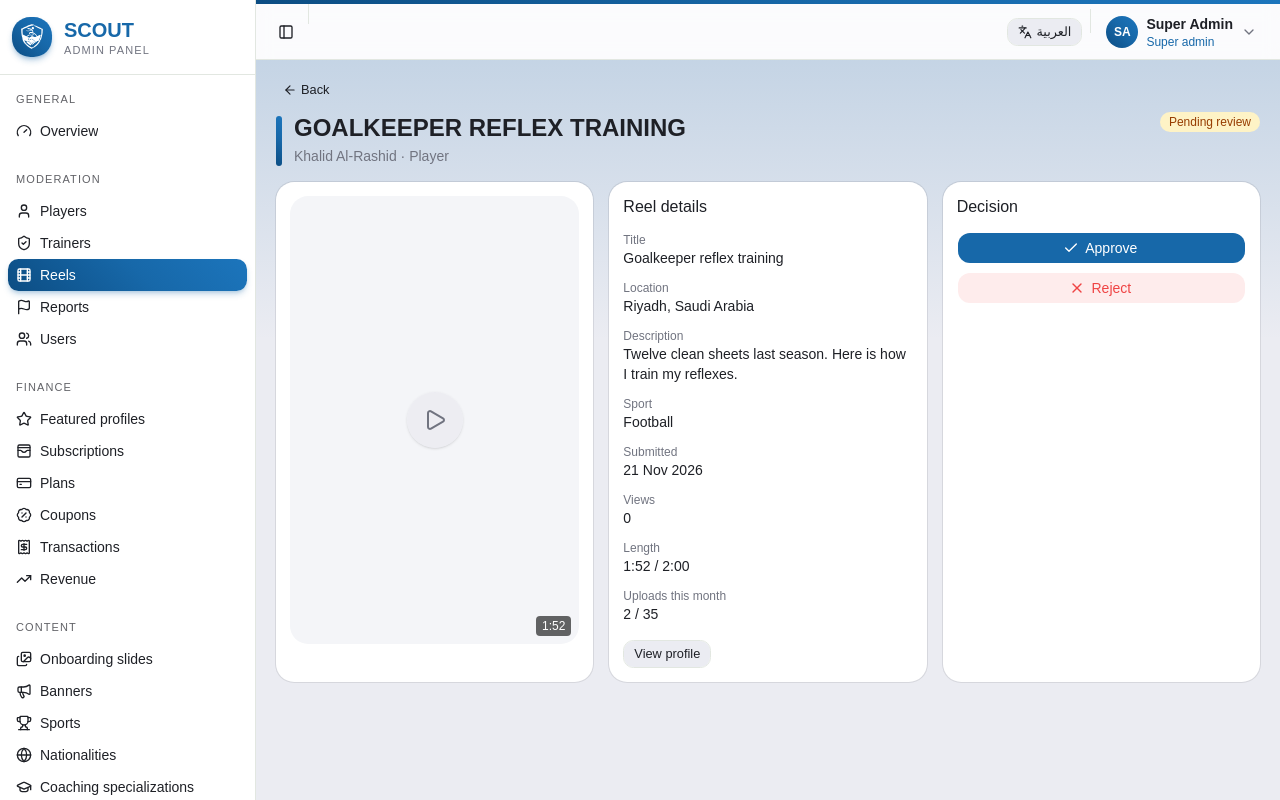
Test: clickable dashboard › requires a reason to reject a reel
Step 1. Click the button "Reject" → (1101, 288), box [957, 272, 1246, 304]
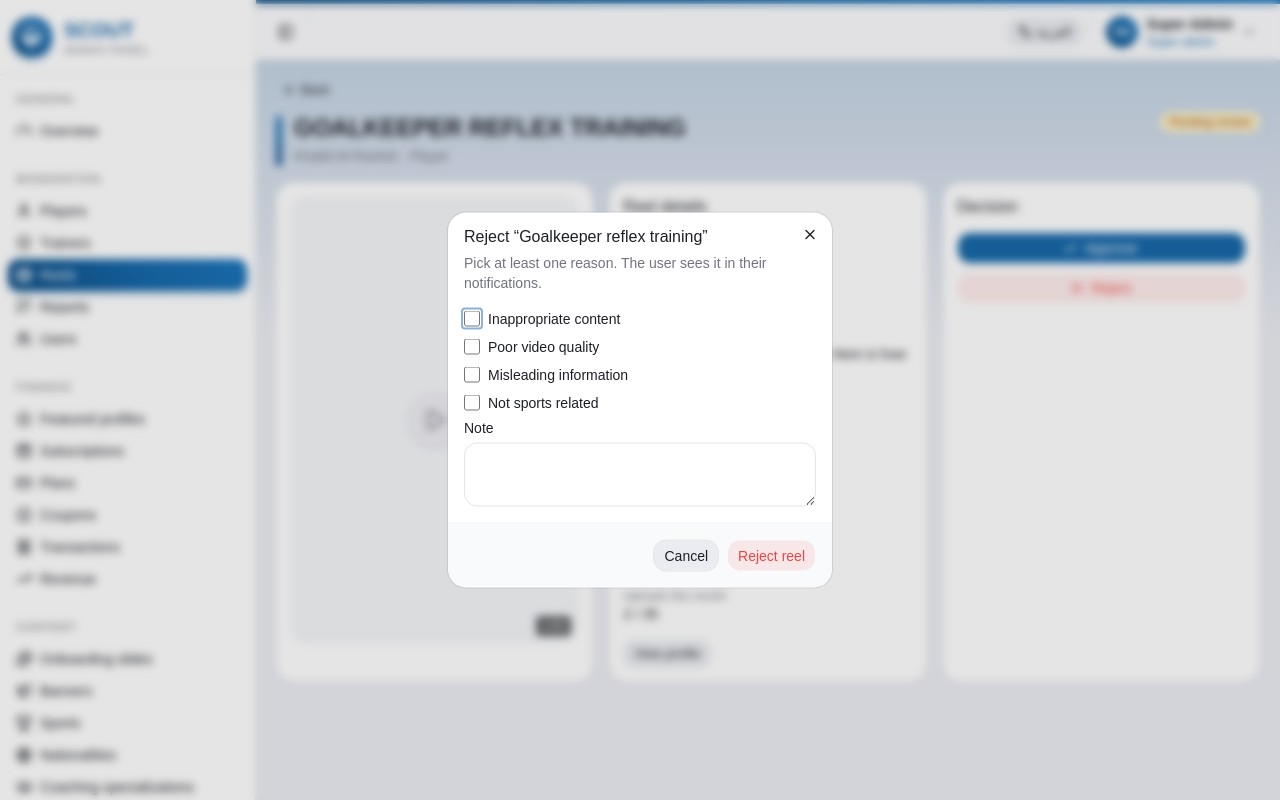
Step 2. Click the button "Reject reel" → (772, 556), box [727, 540, 816, 572]
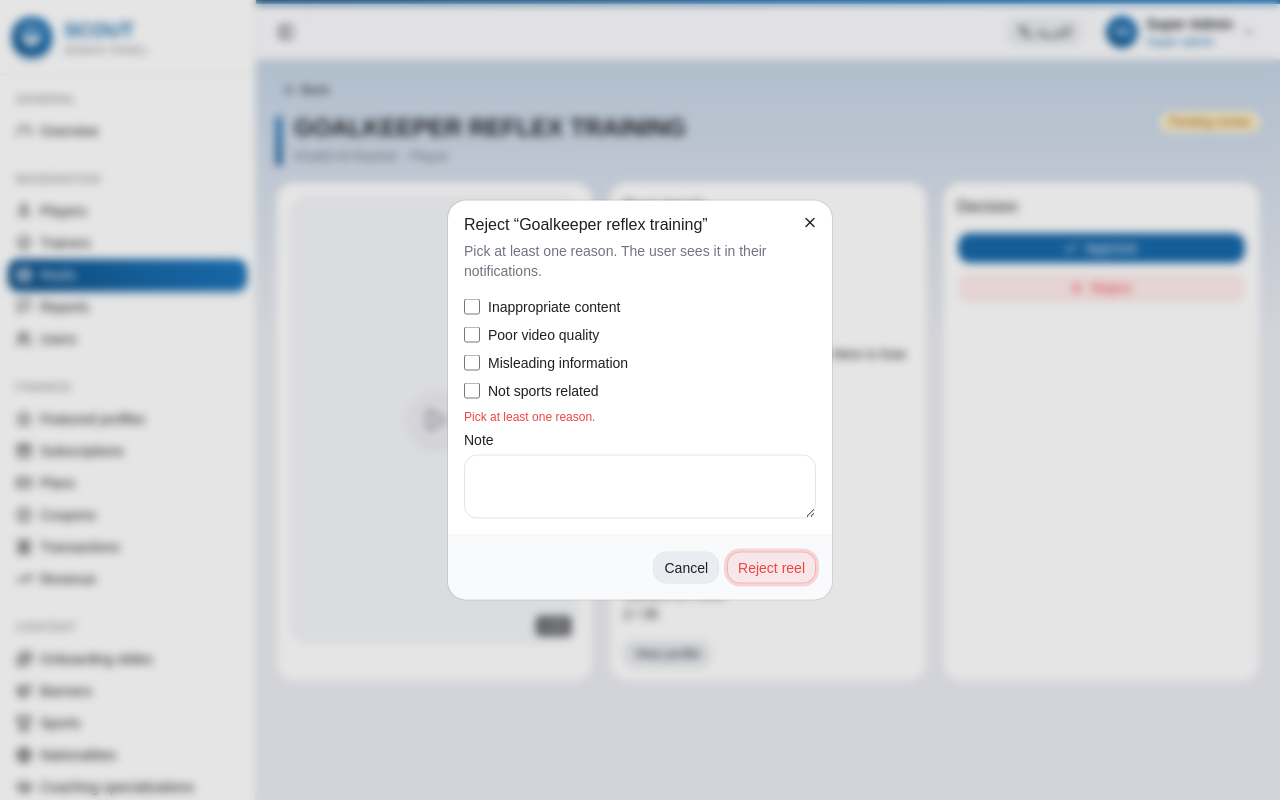
expect the text "Pick at least one reason." is shown: met, box [464, 410, 595, 424]
Step 3. Click the checkbox labelled "Poor video quality" → (472, 334), box [464, 326, 480, 342]
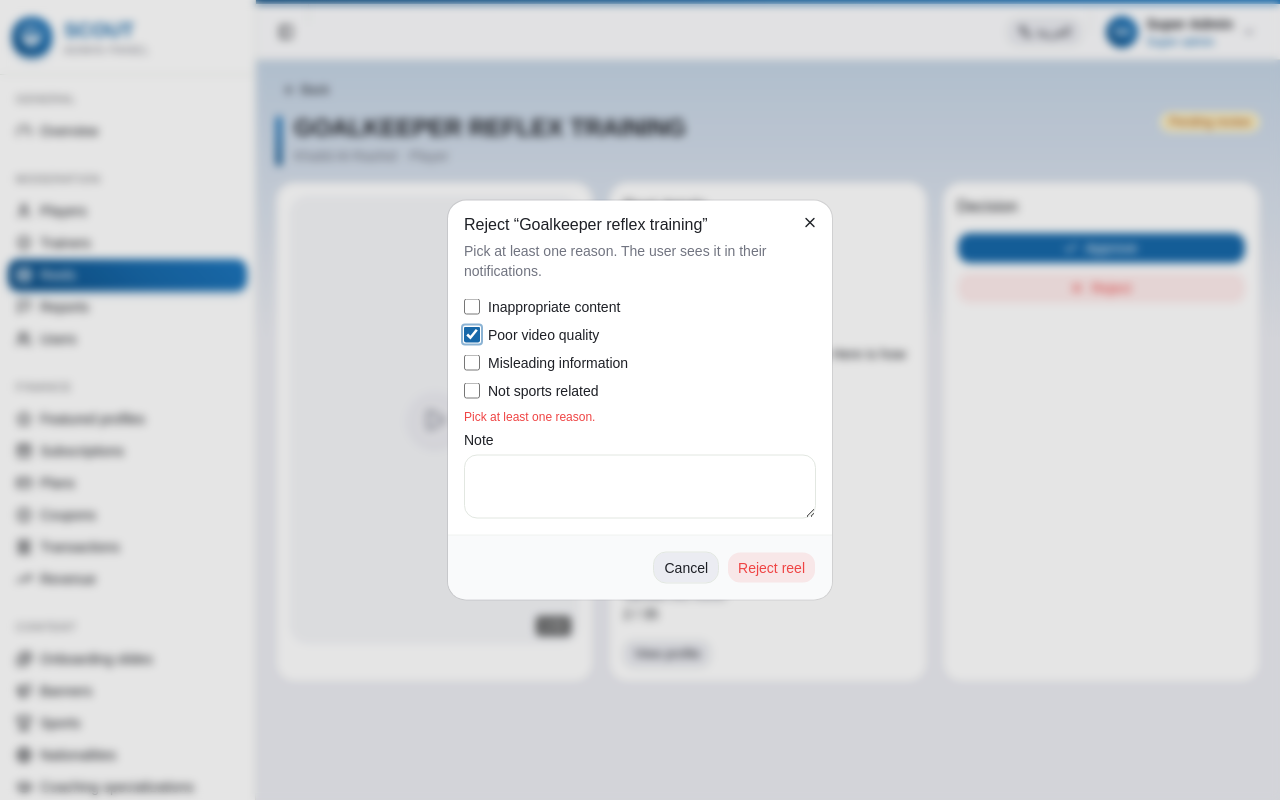
Step 4. Click the button "Reject reel" → (772, 568), box [727, 552, 816, 584]
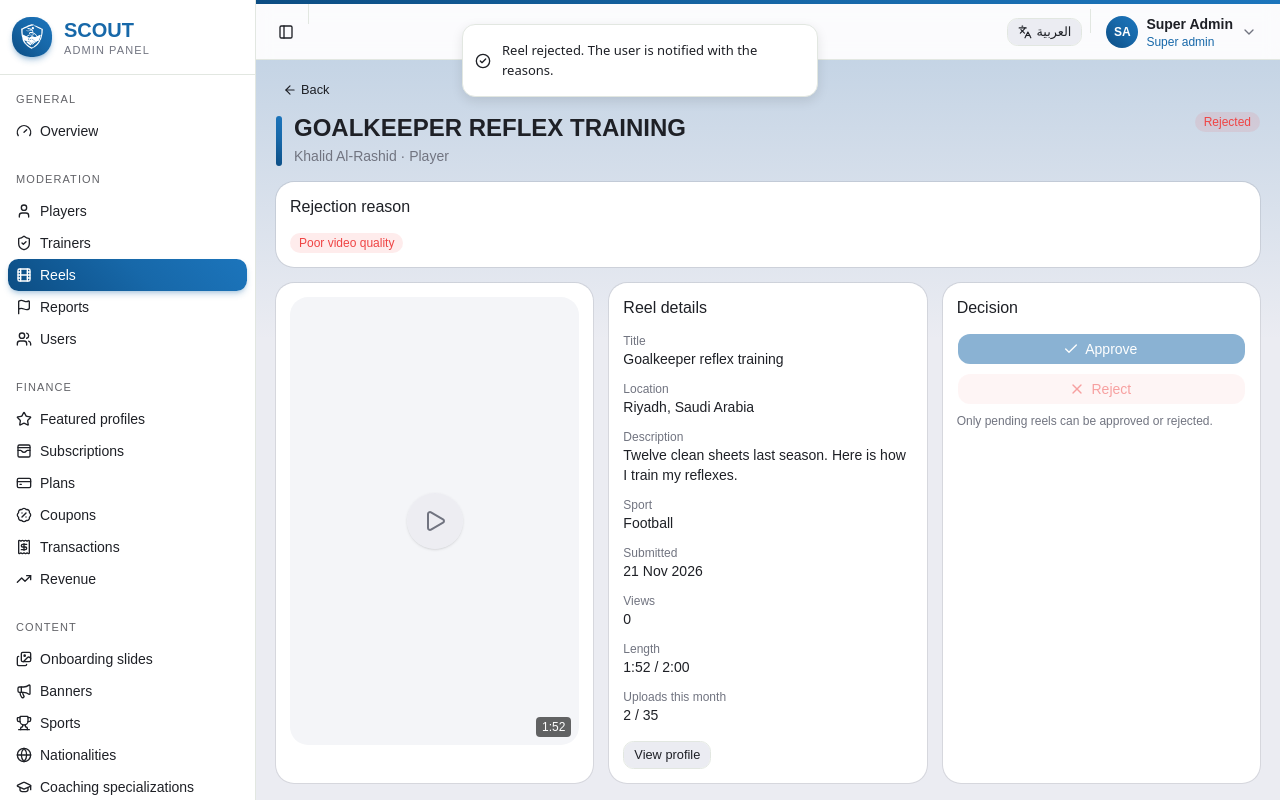
expect the text "Rejected" is shown: met, box [1195, 112, 1260, 132]
